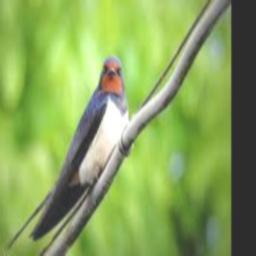Swallow: (5, 54, 129, 251)
